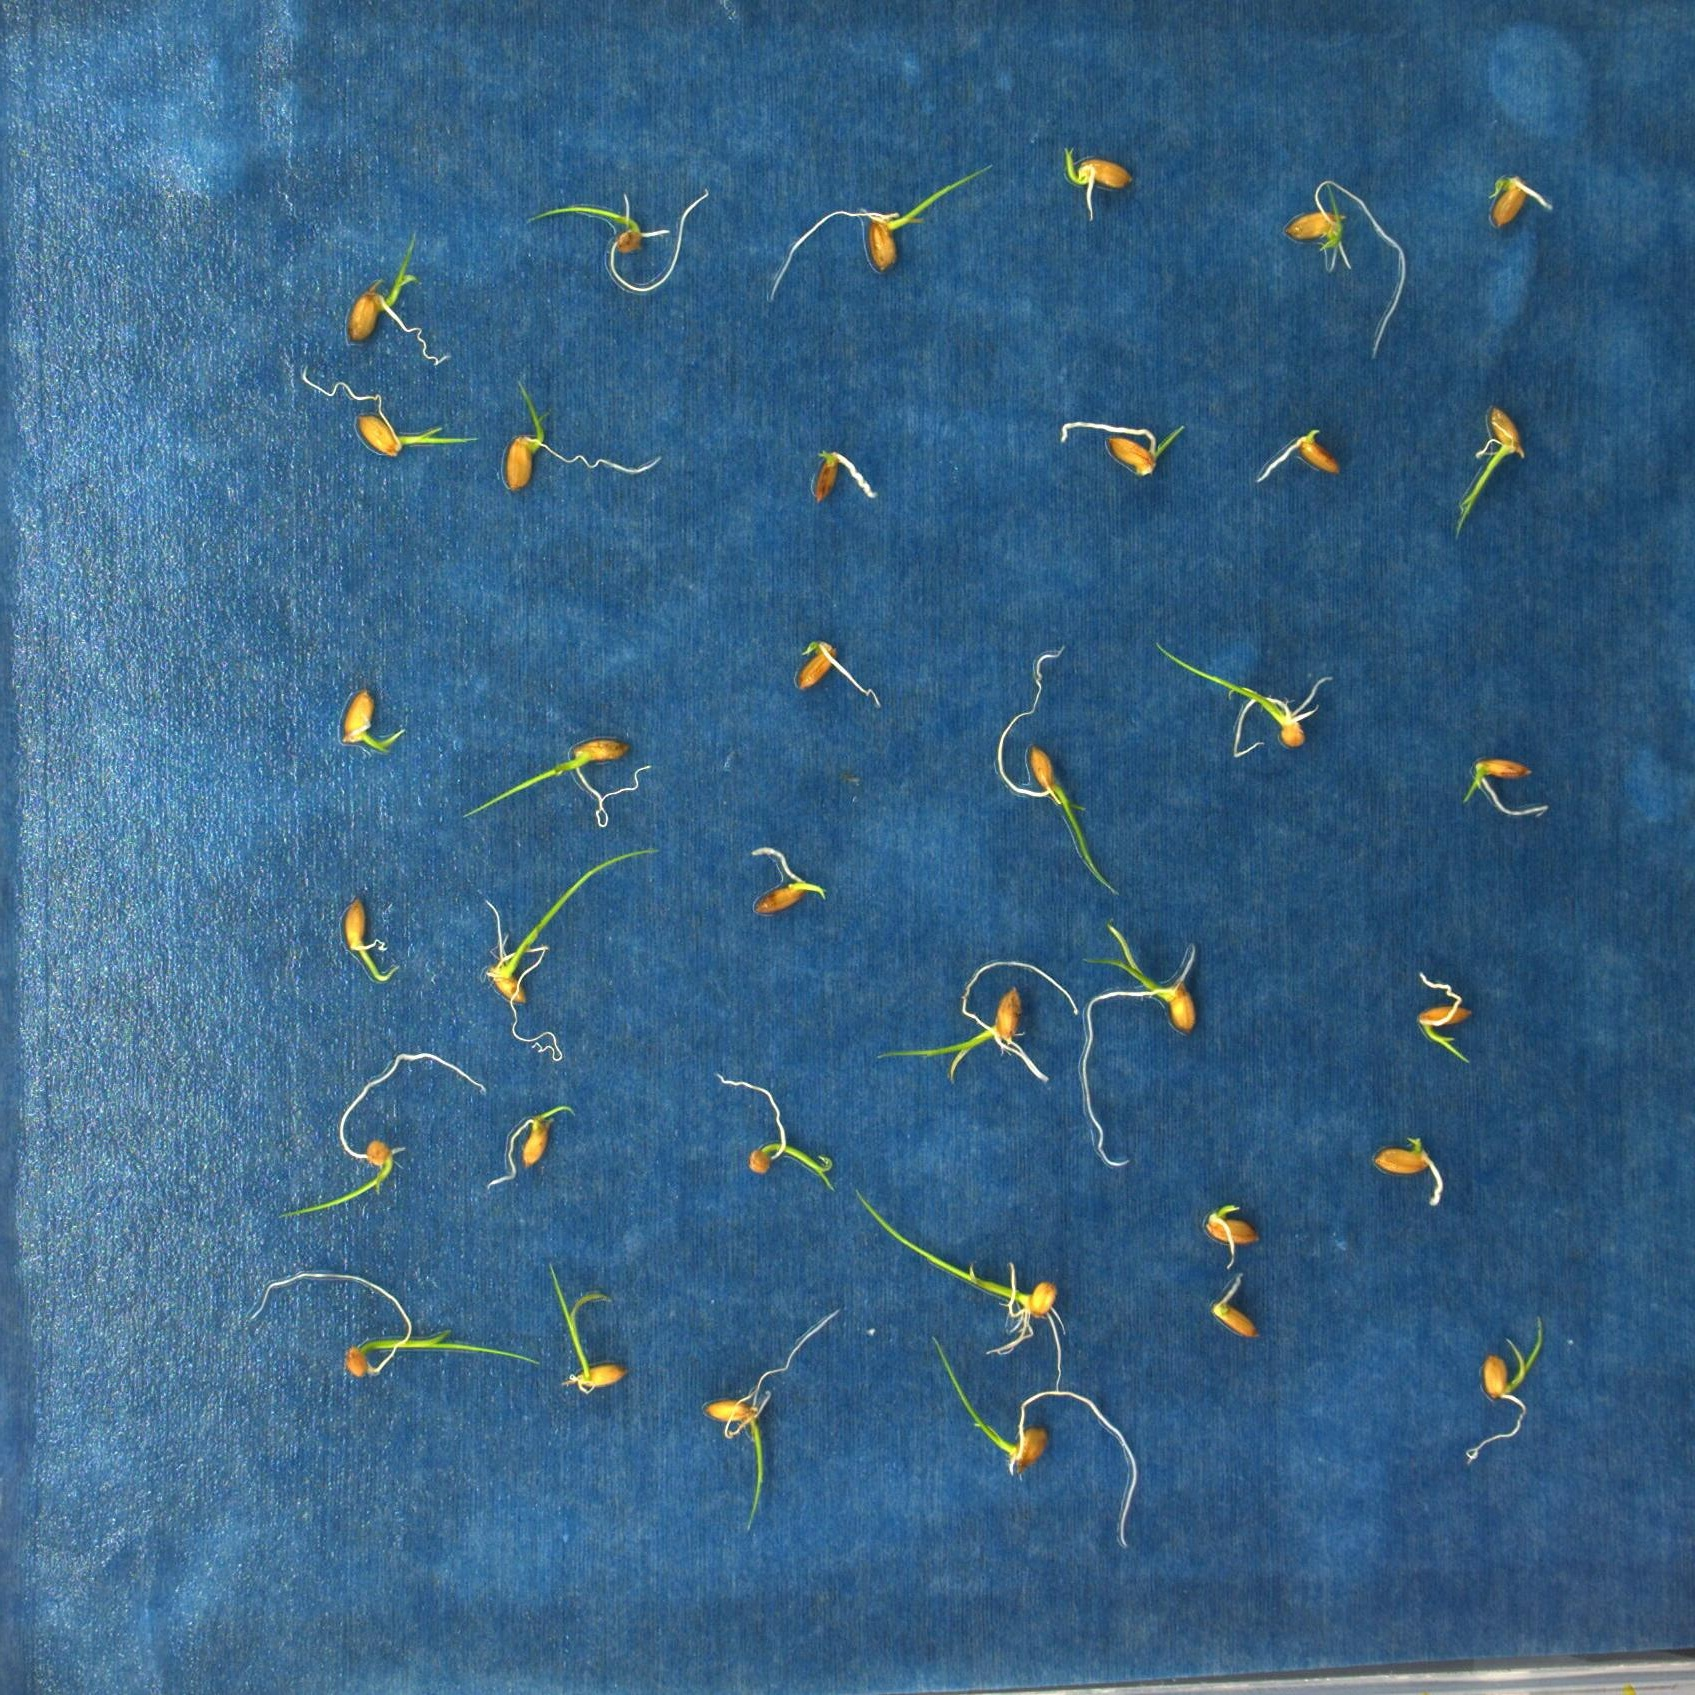not sprout: (1367, 1138, 1453, 1208), (1256, 425, 1343, 486), (809, 444, 879, 501), (1211, 1274, 1262, 1343)
sprout: (849, 1187, 1074, 1399), (469, 849, 669, 1066), (938, 1330, 1139, 1544), (278, 1049, 487, 1218), (245, 1273, 542, 1392), (993, 644, 1122, 893), (709, 1305, 844, 1537), (771, 169, 989, 306), (1087, 924, 1205, 1164), (879, 959, 1080, 1080), (1287, 175, 1408, 362), (522, 186, 711, 298), (1156, 647, 1338, 761), (504, 369, 664, 497), (293, 362, 481, 453), (711, 1063, 837, 1198), (464, 739, 650, 824), (345, 230, 450, 363), (1462, 1309, 1551, 1461), (549, 1254, 624, 1411), (1453, 407, 1527, 539), (483, 1102, 576, 1194), (1055, 421, 1186, 475), (1412, 967, 1482, 1065), (1057, 146, 1136, 224), (793, 636, 883, 702), (1461, 757, 1554, 820), (753, 844, 829, 917), (335, 900, 397, 984), (1479, 169, 1555, 231), (341, 686, 400, 754), (1200, 1201, 1257, 1270)
